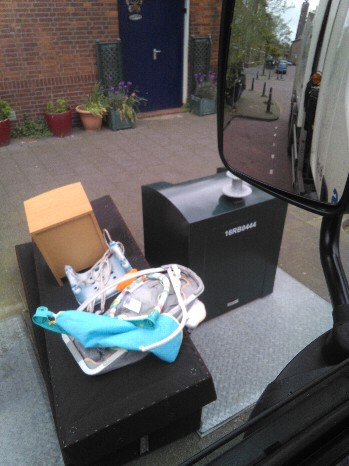Container: (125, 127, 285, 284)
Rest: (19, 190, 220, 407), (97, 244, 161, 374), (38, 205, 118, 289)
